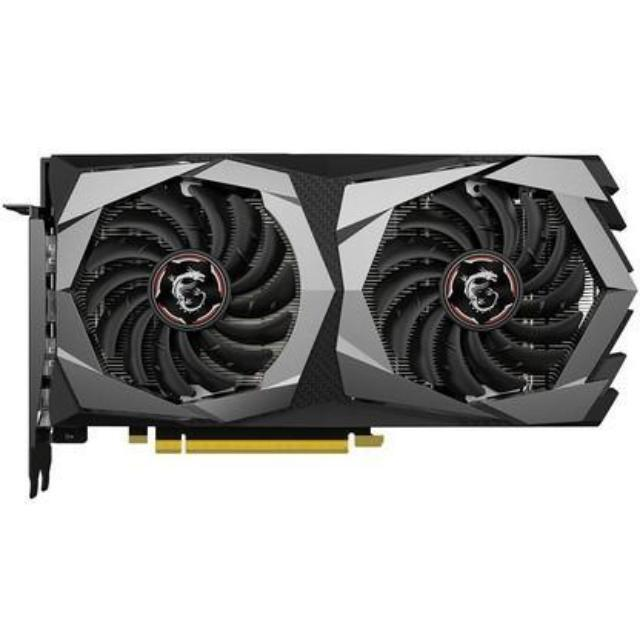GPU: (28, 138, 634, 464)
